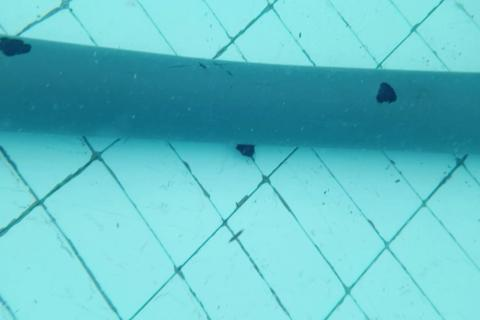kebocoran: (0, 36, 32, 58), (373, 80, 397, 106)
keretakan: (168, 59, 240, 76)
